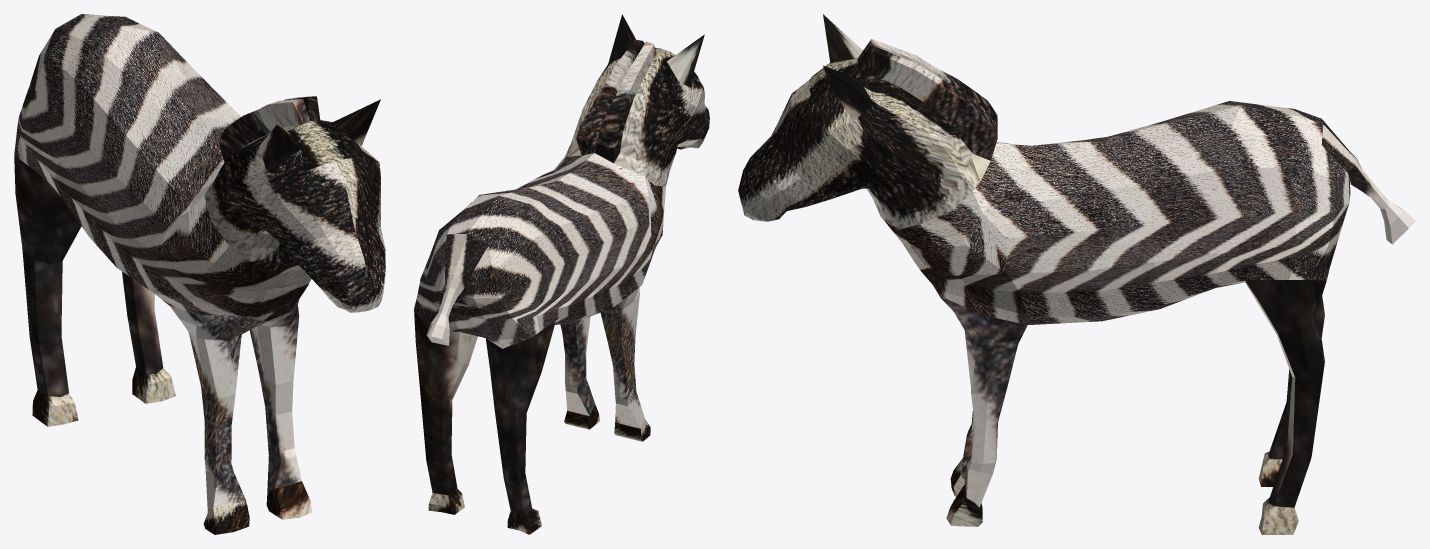
Rendered from simauma.fbx.
3 renders of one model, left to right at view 1: azimuth 30°, elevation 25°; view 2: azimuth 150°, elevation 25°; view 3: azimuth 270°, elevation 25°, orthographic. The views are drawn at different scales.
Parts seen in each view (by area): view 1: simauma; view 2: simauma; view 3: simauma.
Part boxes in pixels (bbox=[...]): simauma: bbox=[14, 14, 385, 534]; simauma: bbox=[414, 14, 709, 534]; simauma: bbox=[738, 14, 1415, 534].
Bounding box in the file's own units: 5.18 × 14.13 × 18.67.
Materials: 1 (1 with a texture image).
